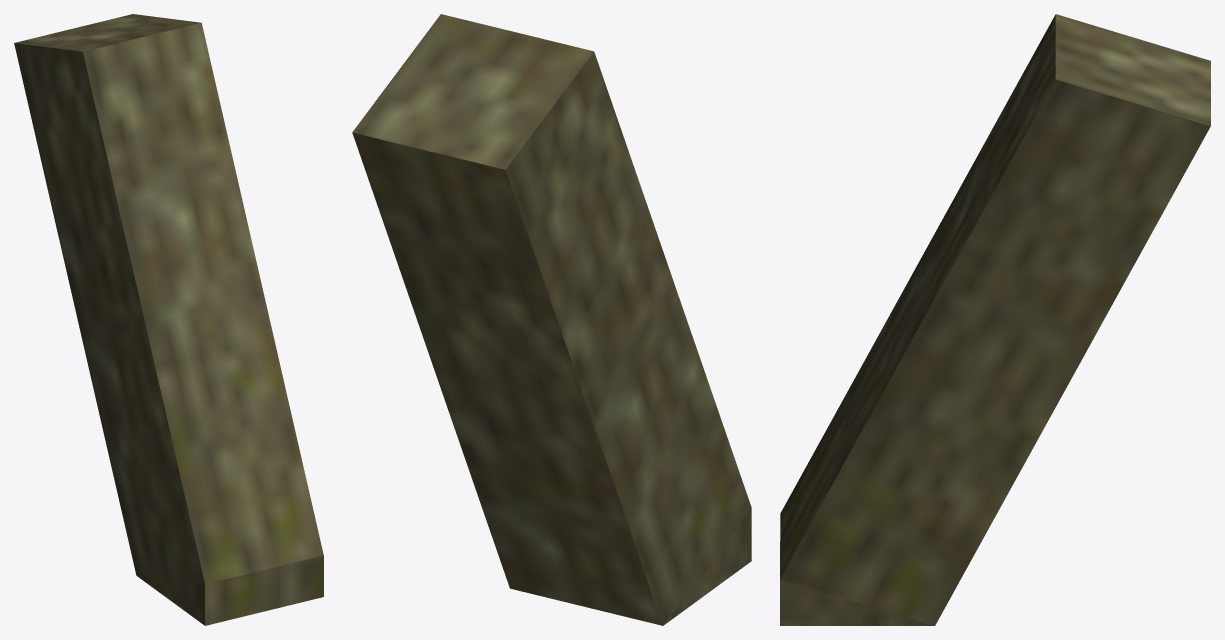
Rendered from poplar_branch_22.5_straight.obj.
3 renders of one model, left to right at view 1: azimuth 30°, elevation 25°; view 2: azimuth 150°, elevation 25°; view 3: azimuth 270°, elevation 25°, orthographic. The views are drawn at different scales.
Parts seen in each view (by area): view 1: cube; view 2: cube; view 3: cube.
Boxes of the visible parts, x1,y1,x2,y2 form: cube: (14, 14, 323, 625); cube: (352, 14, 751, 625); cube: (780, 14, 1210, 625).
Bounding box in the file's own units: 0.5615 × 2.19 × 1.56.
